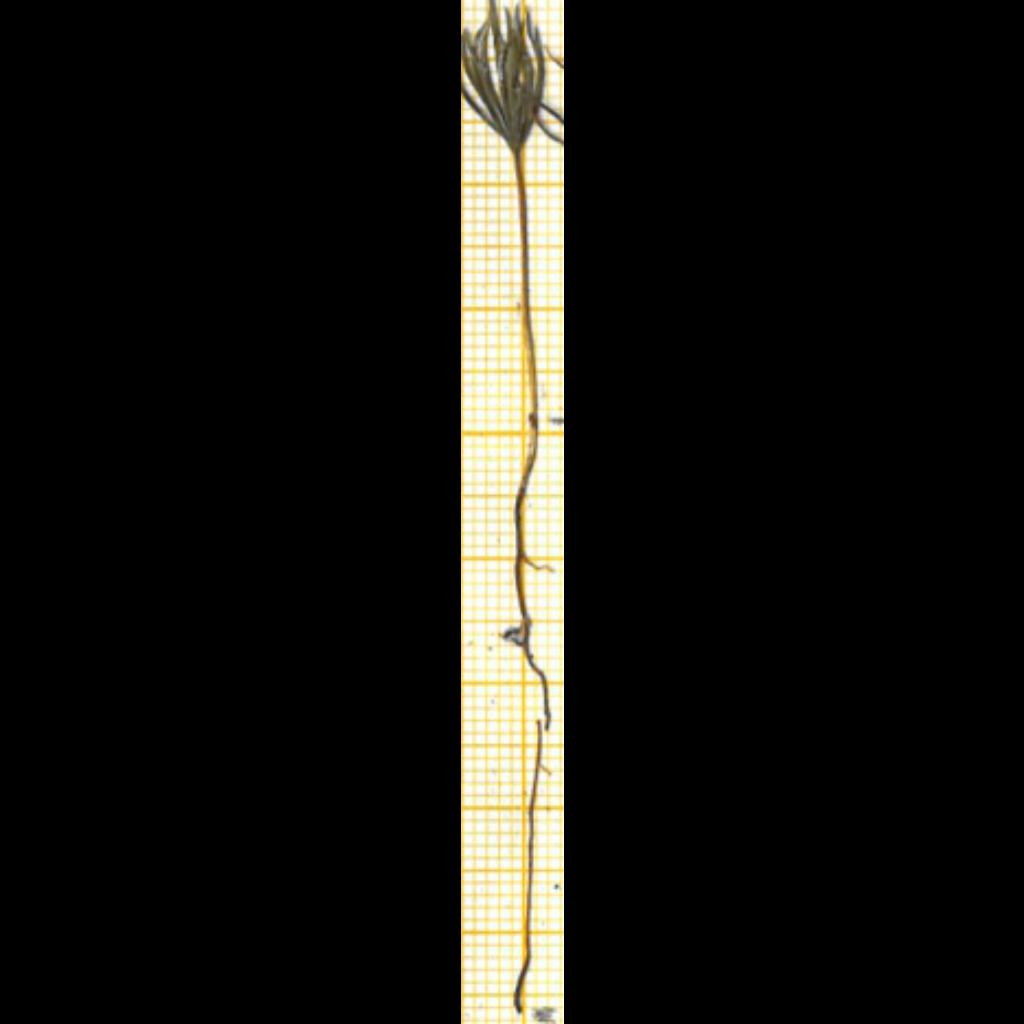flowerPinus: (461, 0, 544, 152)
rootPinus: (505, 444, 550, 730)
stemPinus: (514, 153, 537, 430)
